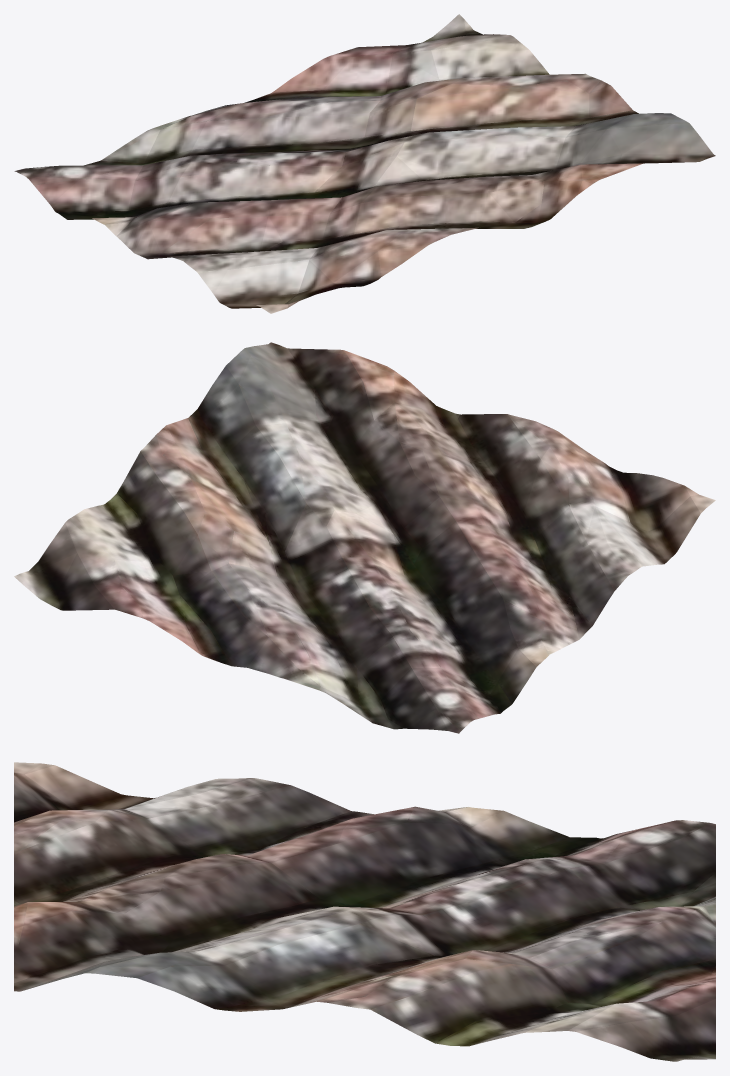
The picture shows the model from 3 angles, top to bottom: view 1: azimuth 30°, elevation 25°; view 2: azimuth 150°, elevation 25°; view 3: azimuth 270°, elevation 25°; orthographic projection. The views are drawn at different scales.
Size of the model in its own units: 0.8373 by 0.215 by 0.8374.
3 materials, 3 textured.
